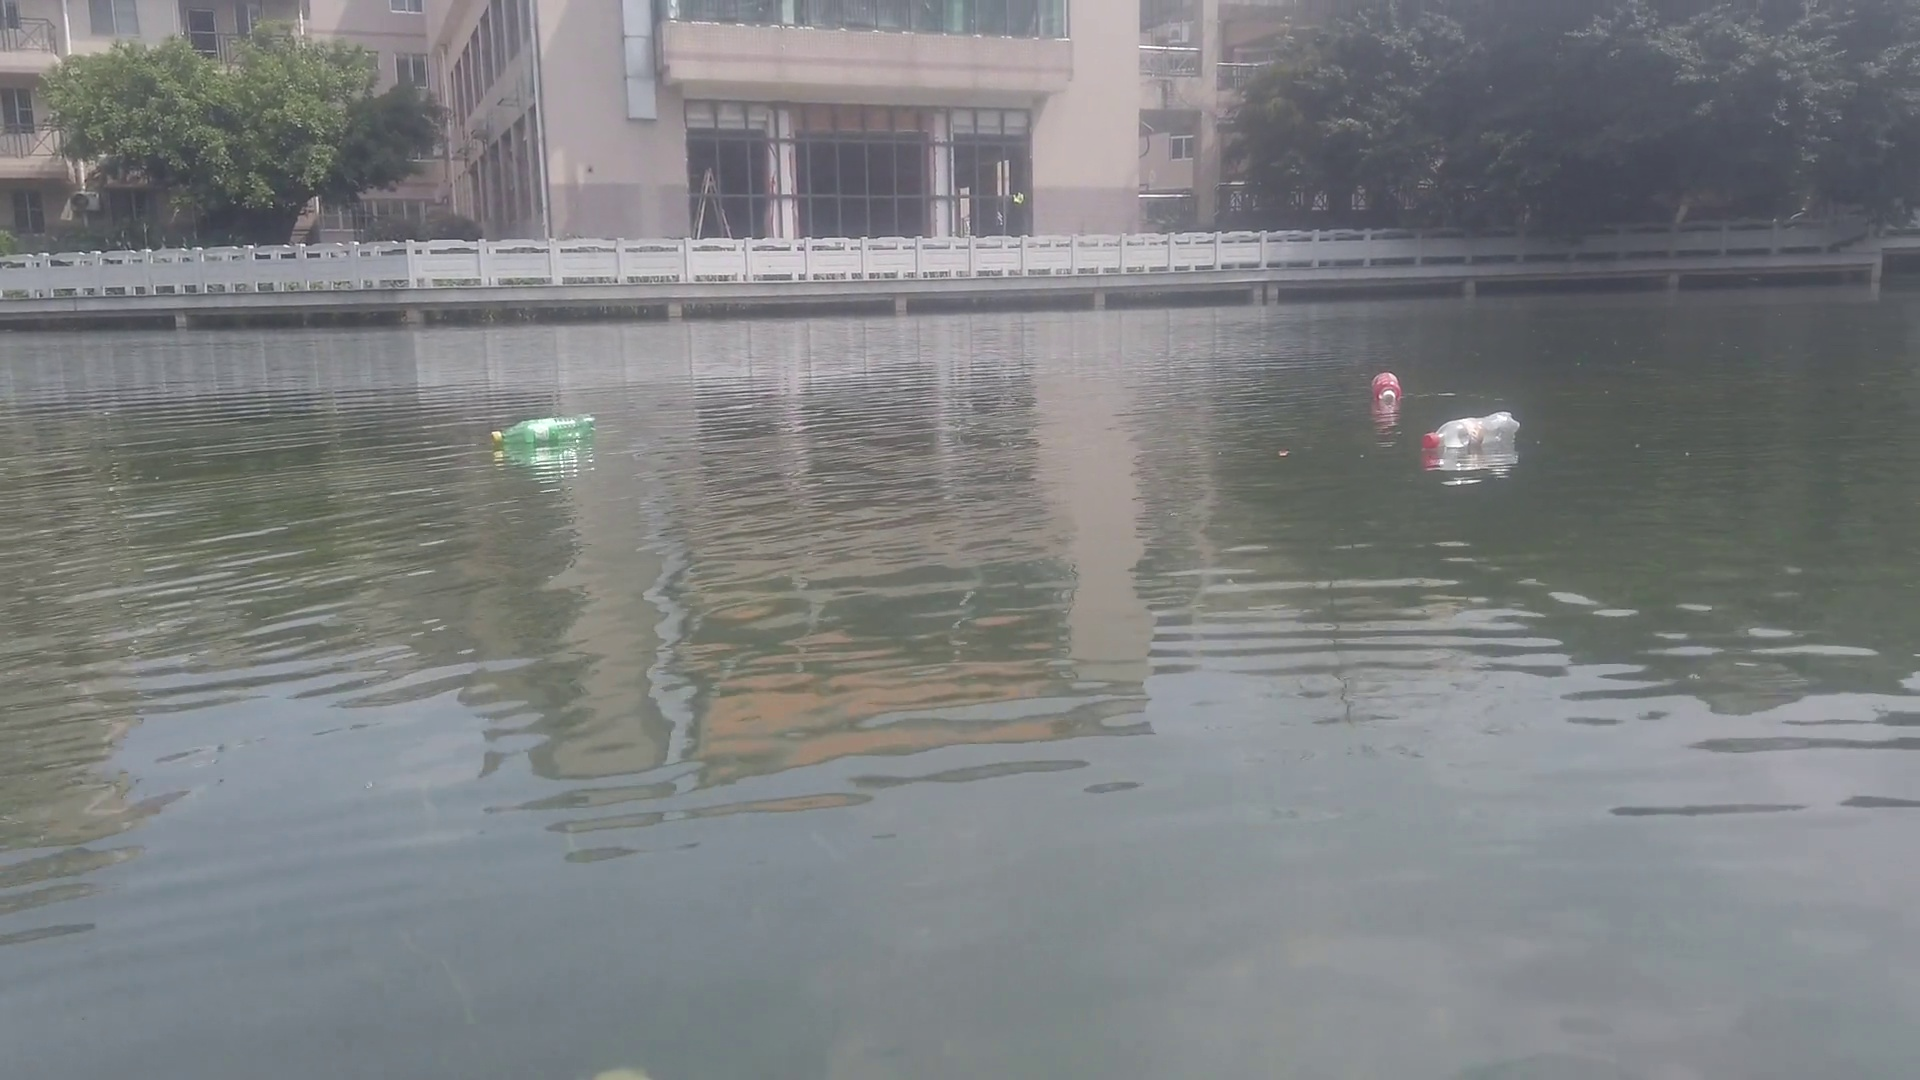bottle: (1418, 415, 1520, 448), (487, 417, 593, 446), (1374, 375, 1400, 410)
